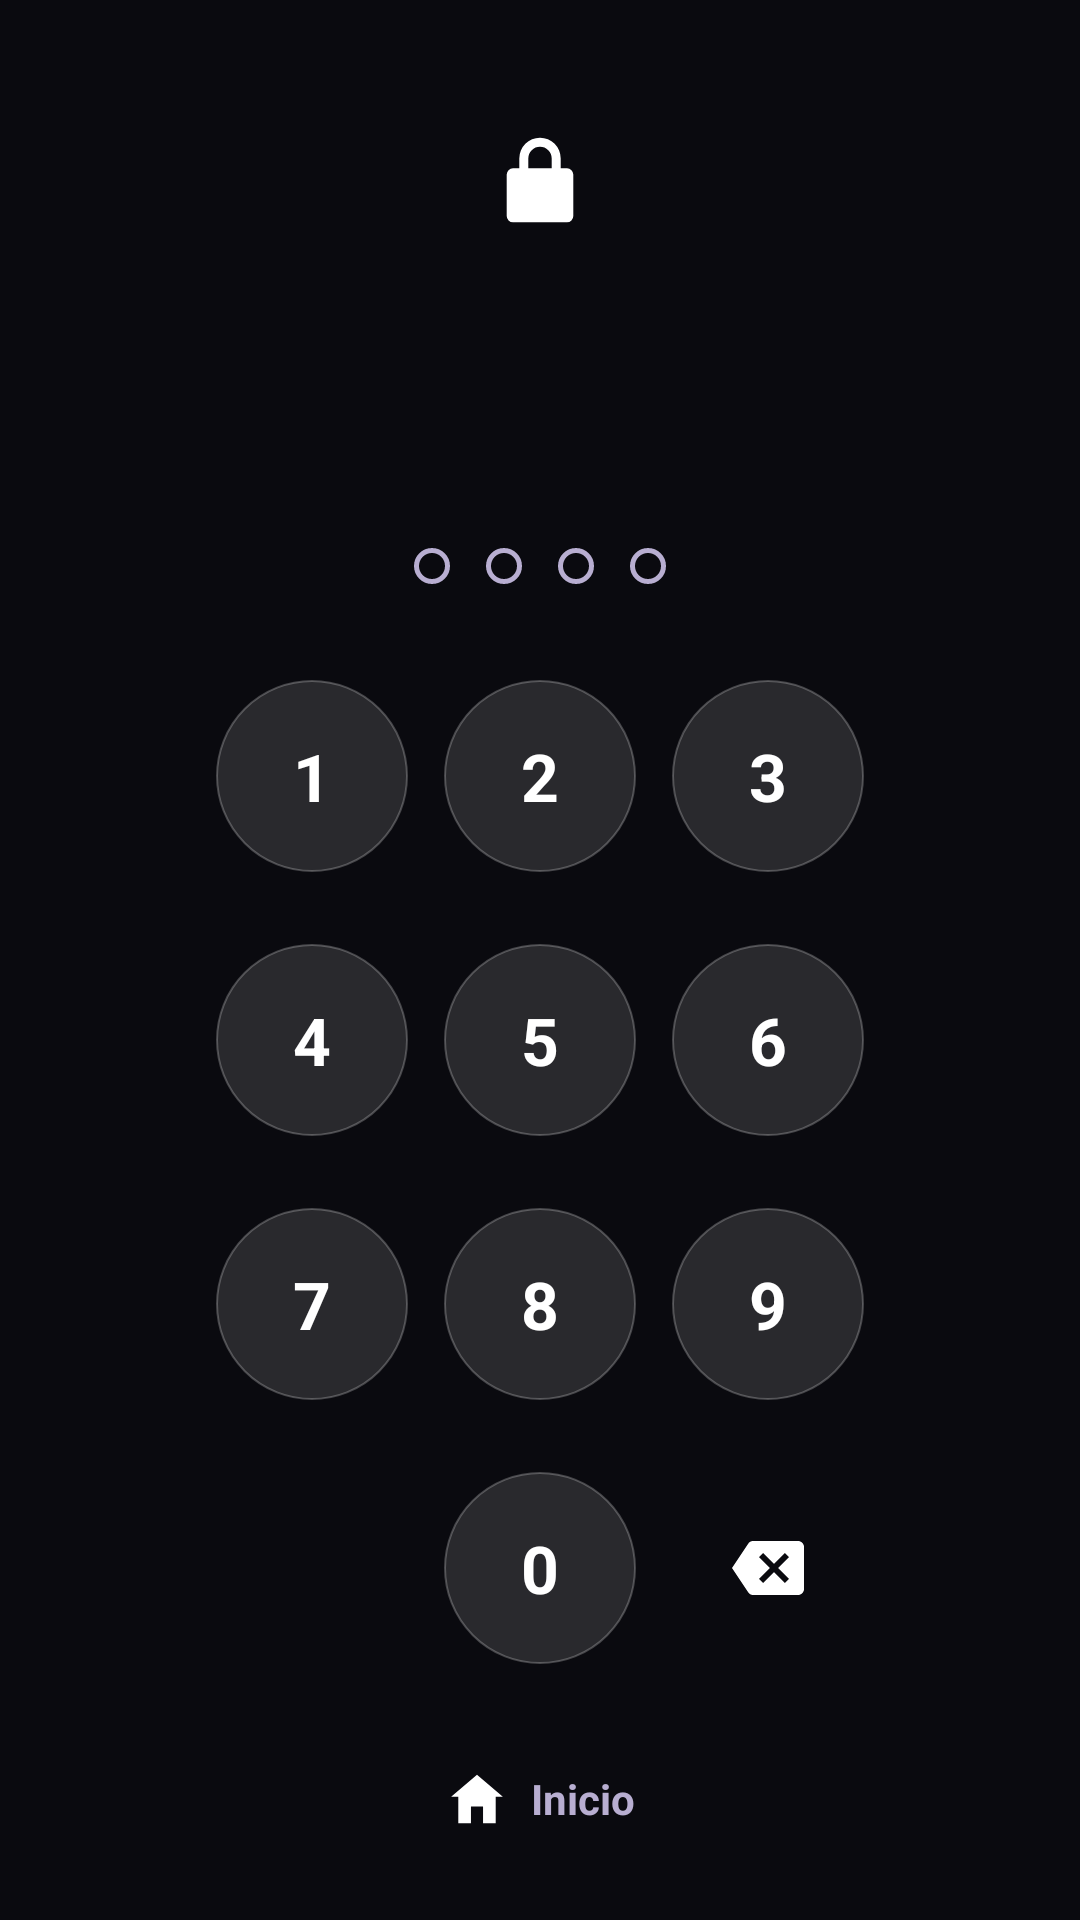

Named icons in this screenshot (1080px x 1920px) and their bounding boxes, BBox(x1, y1, x2, y2):
Borrar: BBox(732, 1541, 804, 1595)
lock closed: BBox(506, 137, 574, 223)
